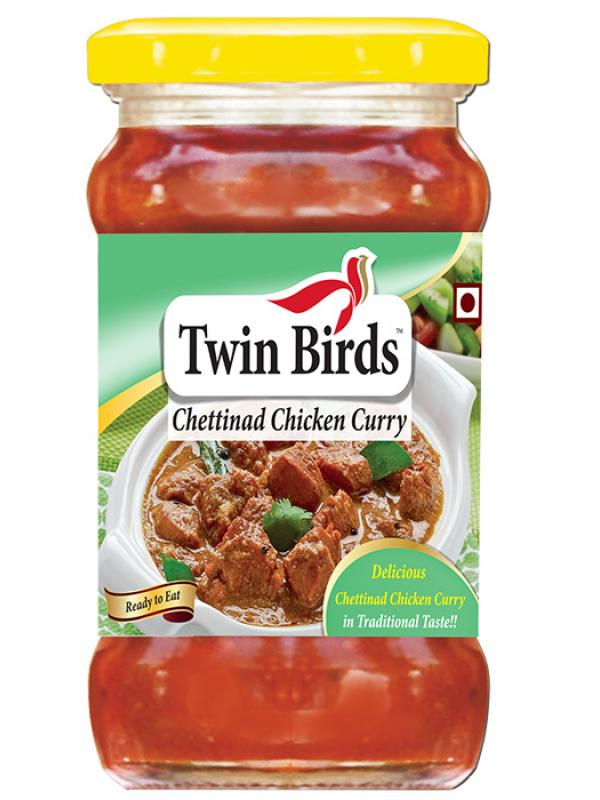nonveg_red: (452, 280, 482, 325)
